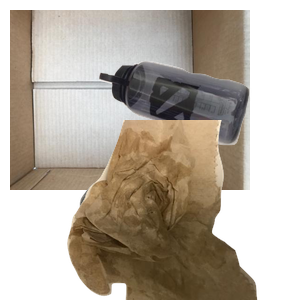cardboard: (10, 10, 250, 190)
glass: (77, 178, 205, 300)
plastic: (97, 59, 300, 197)
trash: (65, 120, 300, 300)
